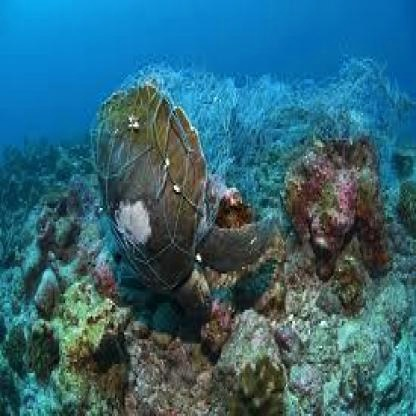net: (87, 69, 398, 289)
